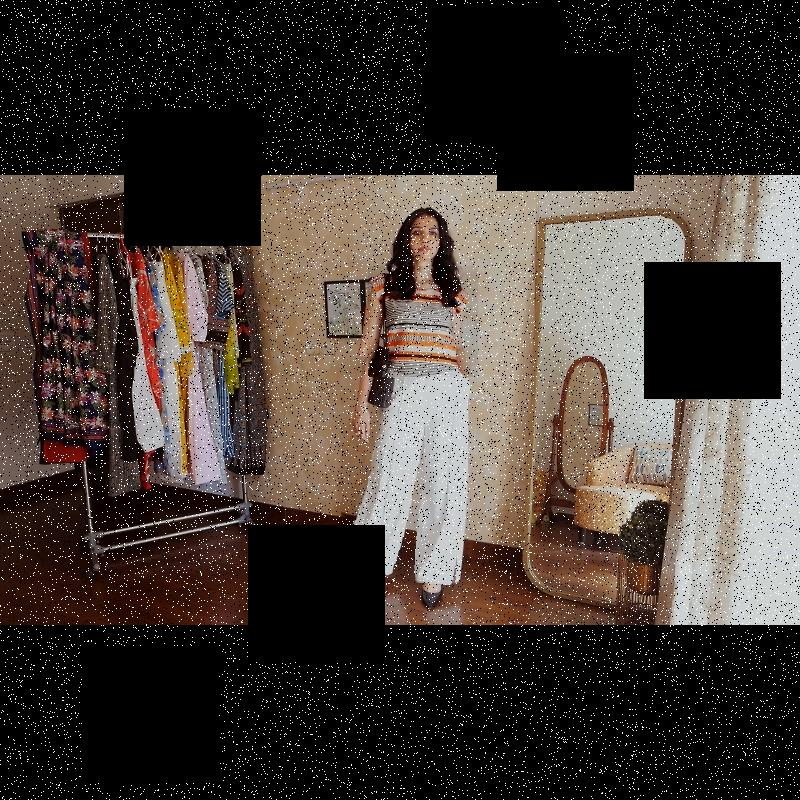Pant: (337, 359, 467, 585)
Shirt: (368, 266, 477, 377)
